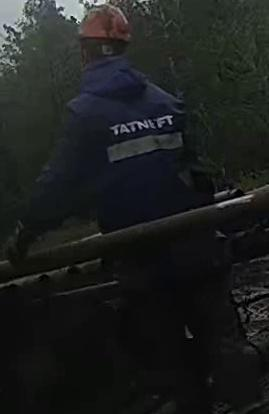gloves: (0, 214, 42, 269)
helmet: (77, 3, 132, 43)
vest: (62, 57, 217, 234)
